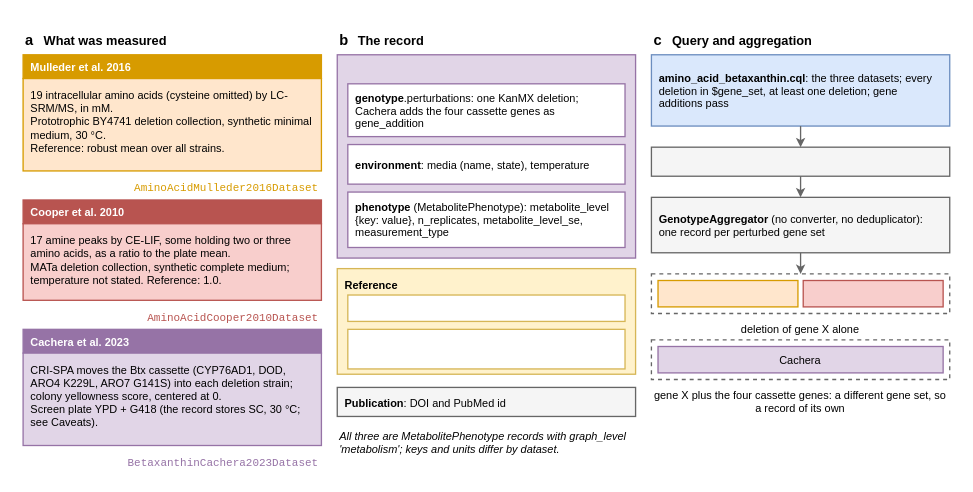
Some shapes in this 973 by 492 pixel diagram are drawn without their labels. Here are the shapes that lost their labels. From the top down, the box of each, then its label:
(336, 53, 636, 258): Experiment
(650, 146, 950, 176): Neo4jQueryRaw : one entry per Experiment node
(346, 294, 625, 321): genome_reference : strain BY4741
(657, 279, 798, 307): Mulleder
(802, 279, 943, 307): Cooper
(346, 328, 625, 369): phenotype_reference : robust mean, 1.0 or 0 per key
